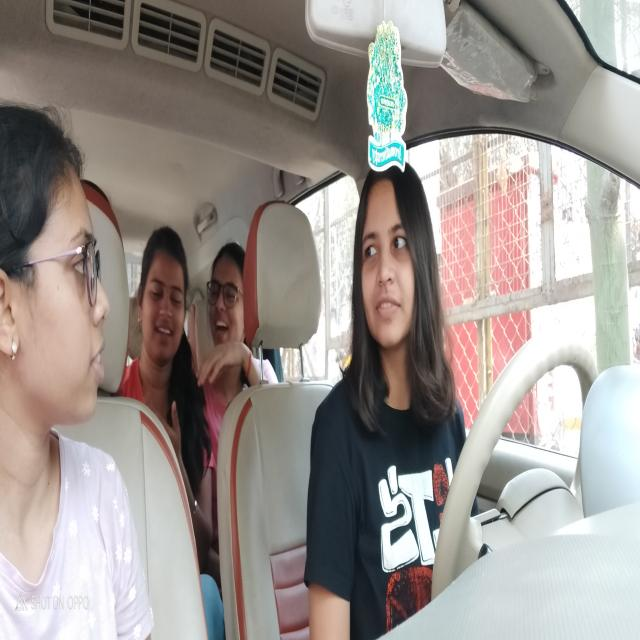LeftRight: (355, 160, 434, 366)
person: (0, 90, 109, 438), (136, 221, 186, 372), (208, 241, 246, 362)
talking: (88, 340, 107, 388), (374, 296, 404, 319)
